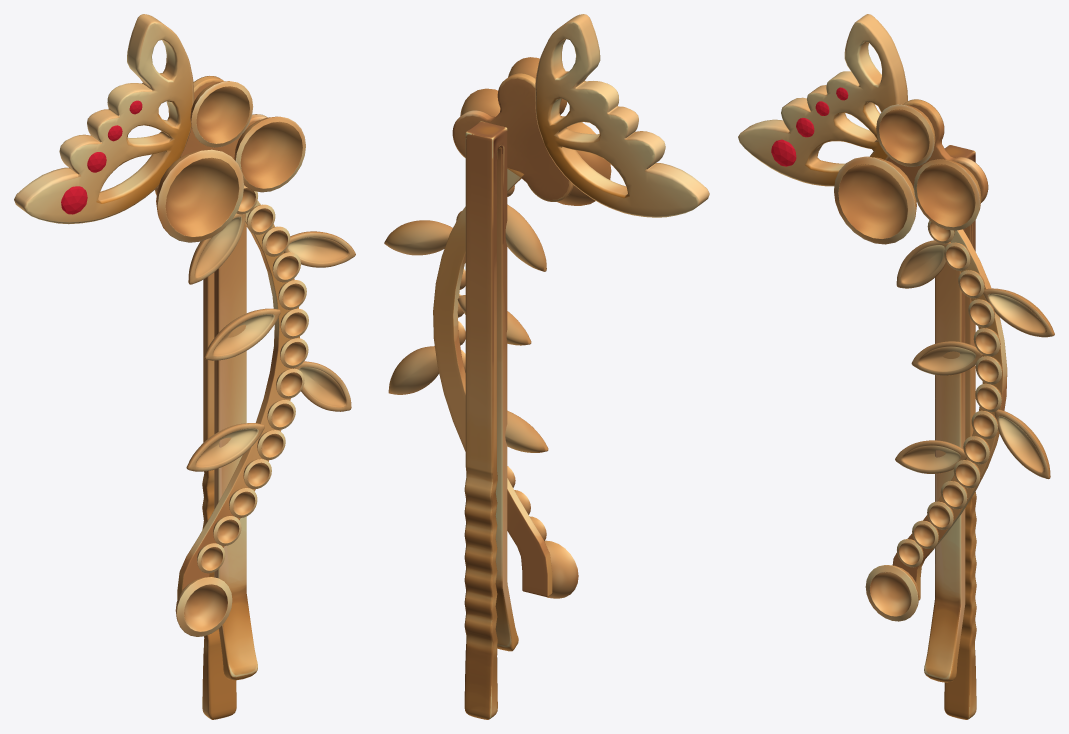
3 views of the same model, side by side, from view 1: azimuth 30°, elevation 25°; view 2: azimuth 150°, elevation 25°; view 3: azimuth 330°, elevation 25° (orthographic). The views are drawn at different scales.
Visible parts, largest first — view 1: hairakuse; view 2: hairakuse; view 3: hairakuse.
Boxes of the visible parts, x1=… form: hairakuse: x1=14, y1=14, x2=355, y2=719; hairakuse: x1=384, y1=14, x2=709, y2=719; hairakuse: x1=738, y1=14, x2=1054, y2=719.
Size of the model in its own units: 72.64 by 152 by 15.81.
